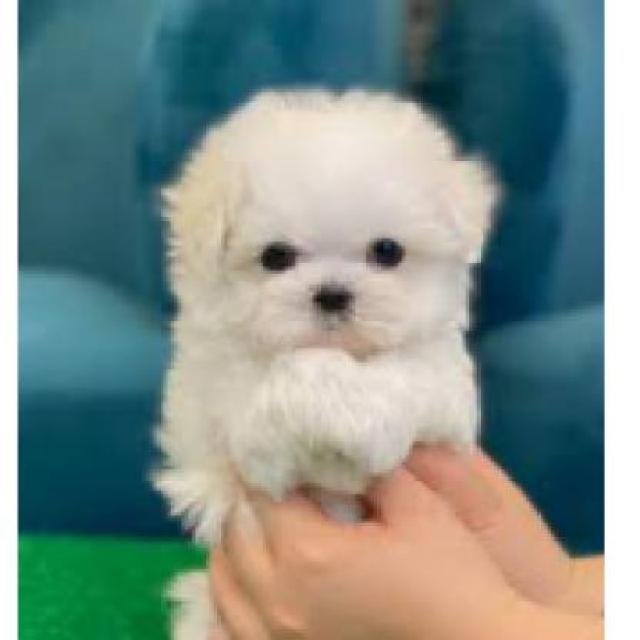Dog: (150, 71, 498, 637)
